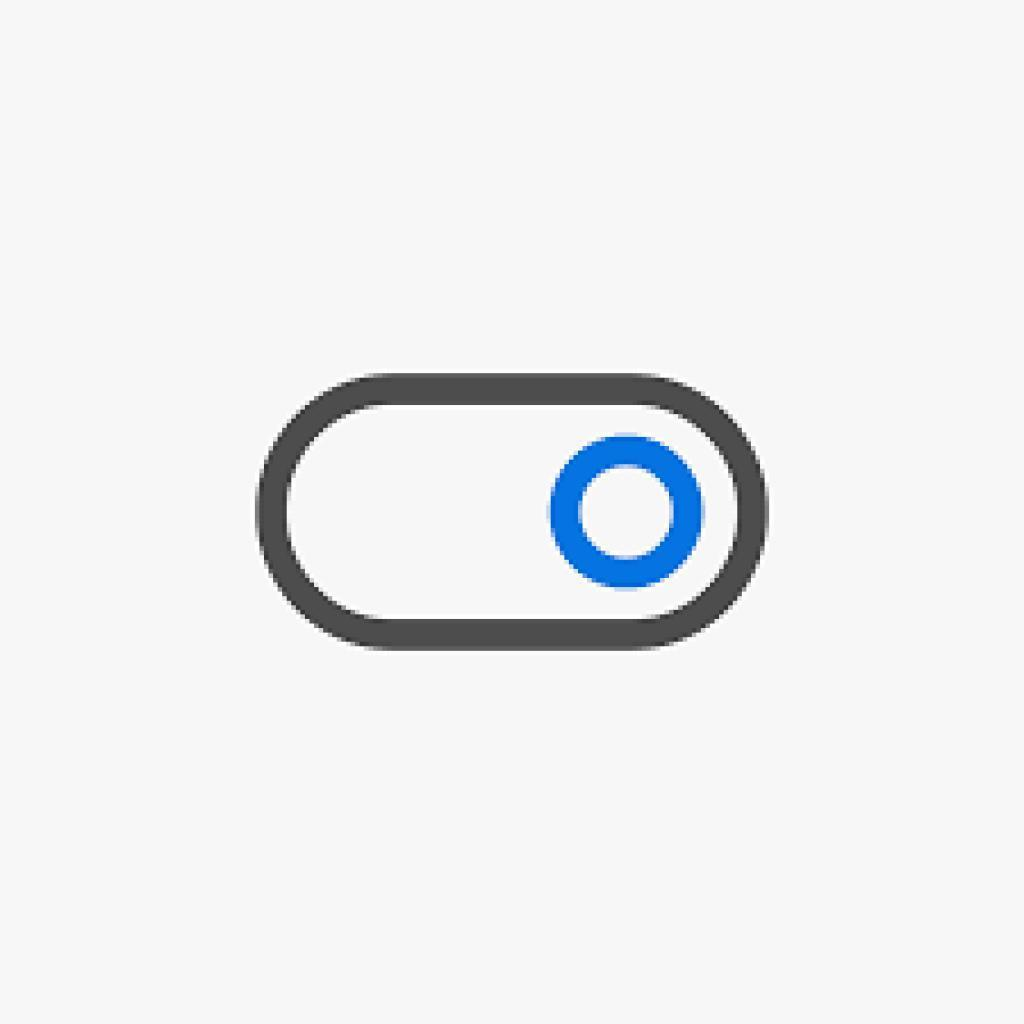switch: (257, 376, 770, 654)
